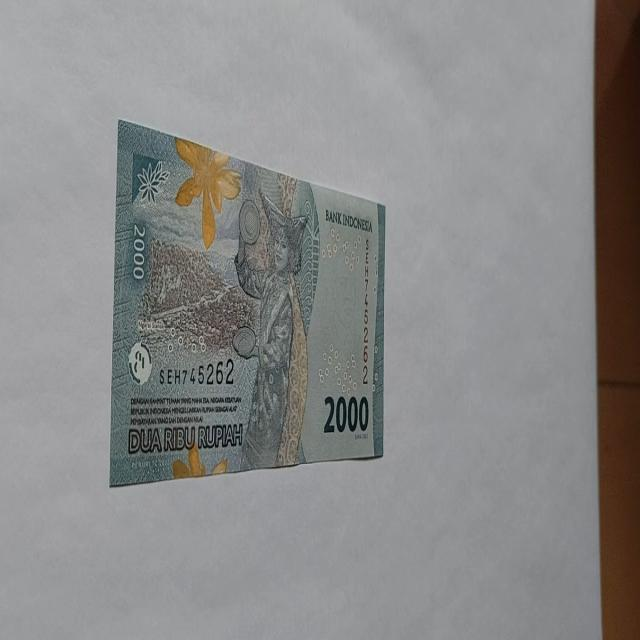dua ribu rupiah: (109, 119, 386, 486), (232, 188, 310, 472), (174, 135, 242, 250)
